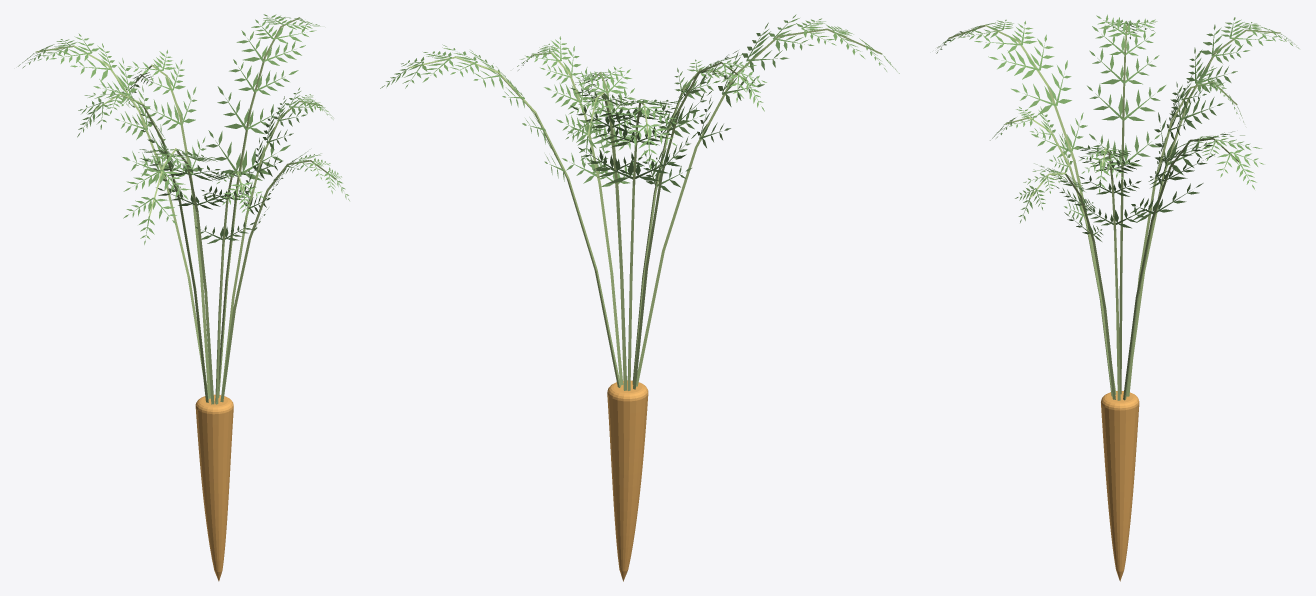
File: carrot_harvest_v16.glb
3 renders of one model, left to right at view 1: azimuth 30°, elevation 25°; view 2: azimuth 150°, elevation 25°; view 3: azimuth 270°, elevation 25°, orthographic. The views are drawn at different scales.
Parts seen in each view (by area): view 1: leaves, petioles, root; view 2: leaves, petioles, root; view 3: leaves, petioles, root.
Part boxes in pixels (box(x1,y1,x2,y2)): leaves: box(18, 14, 349, 244); petioles: box(35, 17, 336, 404); root: box(195, 394, 233, 581); leaves: box(380, 14, 899, 192); petioles: box(409, 28, 882, 390); root: box(607, 380, 648, 581); leaves: box(936, 14, 1299, 241); petioles: box(948, 24, 1280, 400); root: box(1101, 391, 1139, 581).
Bounding box in the file's own units: 0.3195 × 0.4733 × 0.3105.
